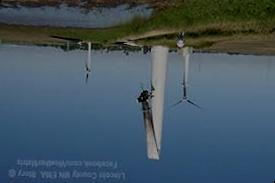faulty: (130, 80, 170, 164)
